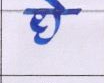e_matra: (34, 0, 69, 9)
